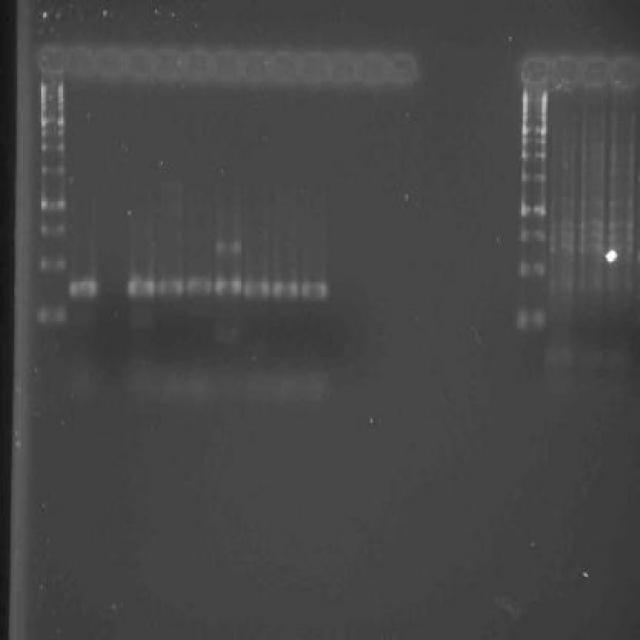B: (124, 271, 158, 300), (66, 278, 102, 302), (157, 272, 186, 300), (270, 275, 298, 303), (300, 276, 328, 304), (183, 273, 214, 298), (212, 272, 242, 297), (242, 275, 268, 300), (214, 240, 240, 256)
L: (32, 36, 426, 93)
M: (34, 80, 69, 331)
P: (36, 304, 67, 327), (38, 252, 67, 274), (38, 192, 67, 214), (38, 220, 67, 238), (39, 160, 67, 178), (40, 142, 66, 155), (40, 115, 66, 128), (40, 129, 66, 140), (38, 97, 66, 105), (40, 106, 66, 114)
Pc: (97, 42, 128, 86), (212, 46, 243, 89), (388, 49, 421, 89), (358, 48, 389, 90), (154, 43, 183, 86), (327, 49, 358, 89), (184, 44, 213, 86), (270, 48, 299, 88), (68, 44, 96, 84), (242, 48, 270, 88), (36, 41, 67, 77), (127, 43, 155, 82), (300, 48, 326, 88)
